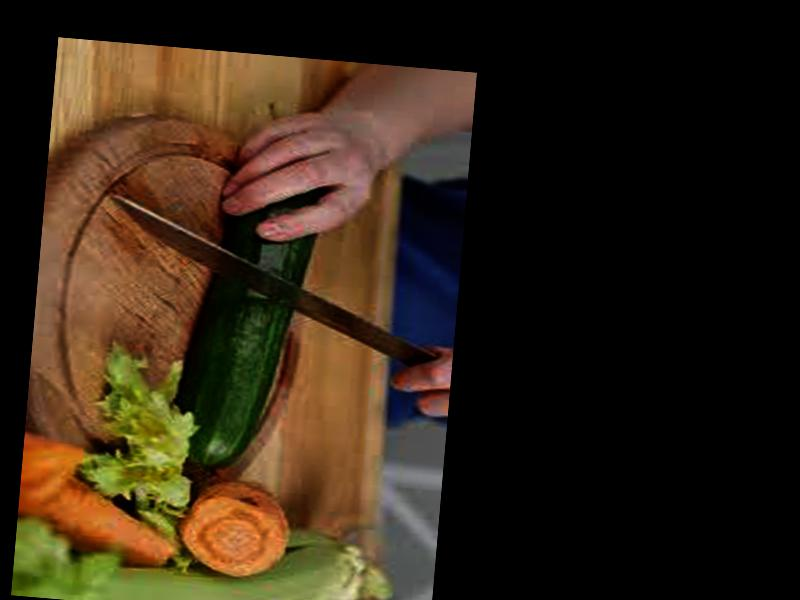Cucumber: (177, 179, 321, 476)
